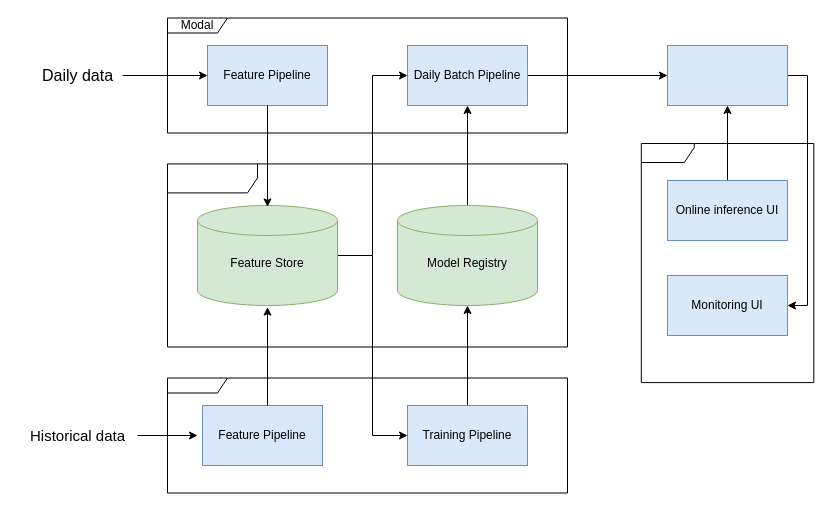
Some shapes in this 833 by 510 pixel diagram are drawn without their labels. Here are the shapes that lost their labels. From the top down, the centre of each, then its label:
At pixel 727 75: "Predictions".
At pixel 367 255: "Hopsworks".
At pixel 727 262: "HF".
At pixel 367 435: "Local".
